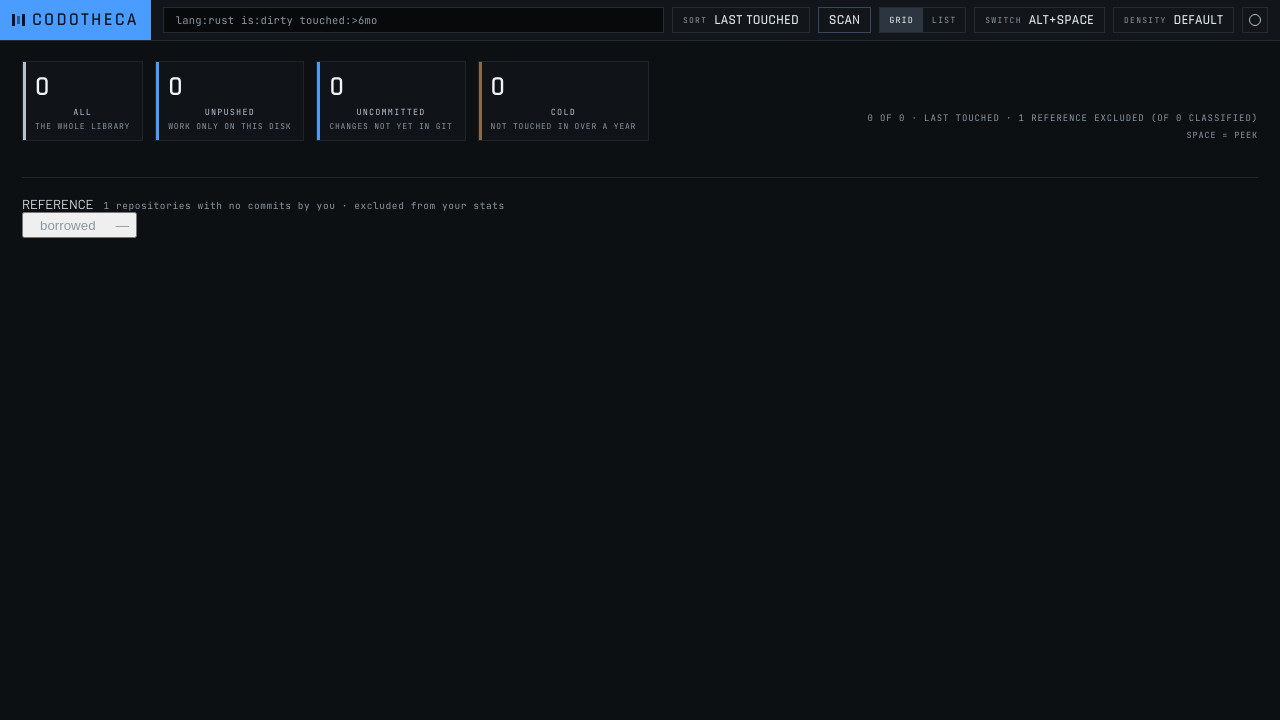
Test case: §30.9 a switch reaches the readings already on screen › R142 granting source reading from the tab re-reads the page and the shelf, and todo_marker stops reading switched off
Click the button with class "cdt-reference-row".
click(79, 225)  # box top-left (22, 212), bottom-right (137, 238)
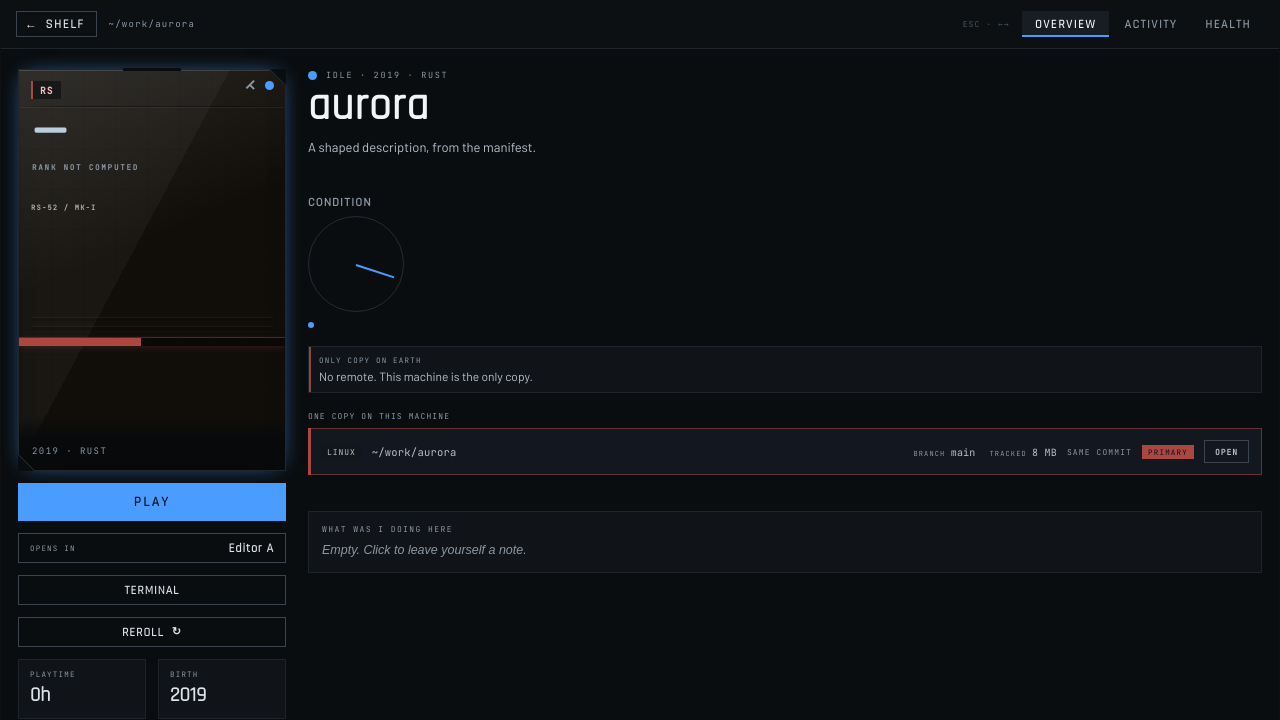
Click the tab "HEALTH".
click(1228, 24)  # box top-left (1192, 11), bottom-right (1264, 37)
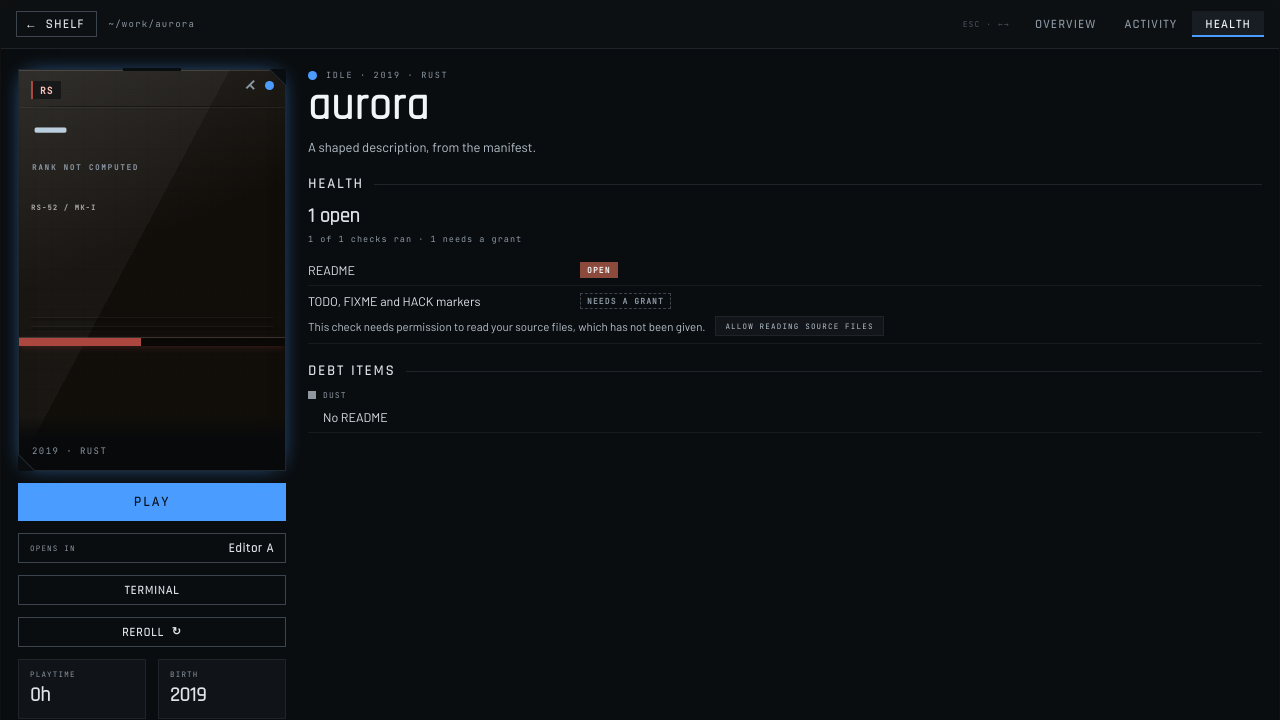
Now the element with test id "cp-health-ask" is shown, box top-left (308, 316), bottom-right (884, 336)
Click the button "ALLOW READING SOURCE FILES".
click(800, 326)  # box top-left (715, 316), bottom-right (884, 336)
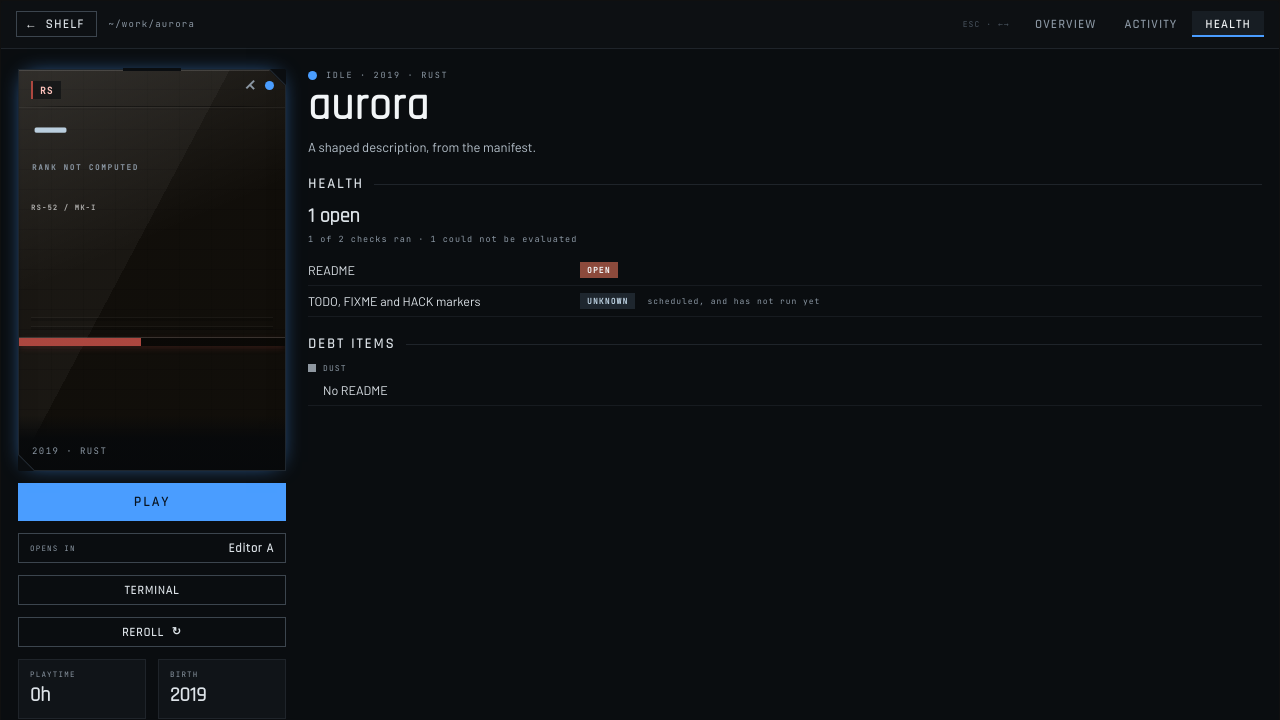
Now the element with test id "cp-health-ask" is gone
